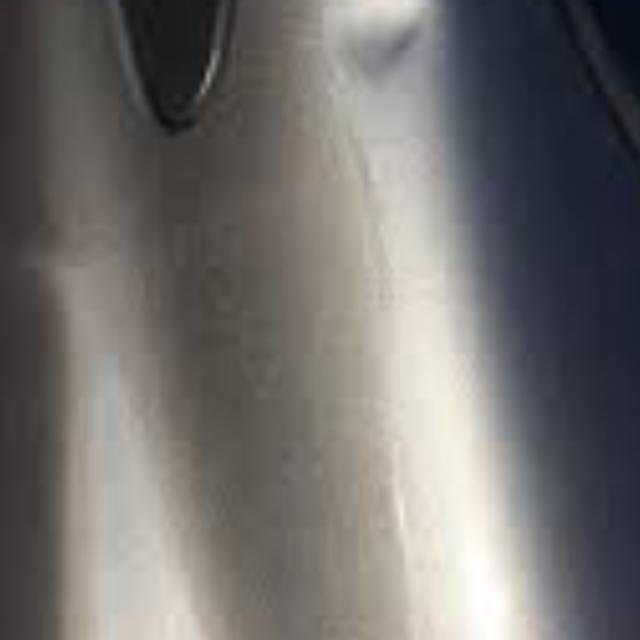dents: (298, 3, 484, 141)
